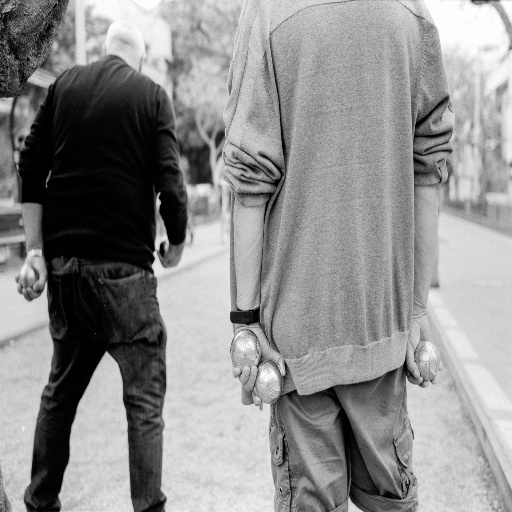hand: (229, 325, 288, 403), (404, 312, 443, 388), (14, 254, 47, 301), (154, 237, 183, 269)
